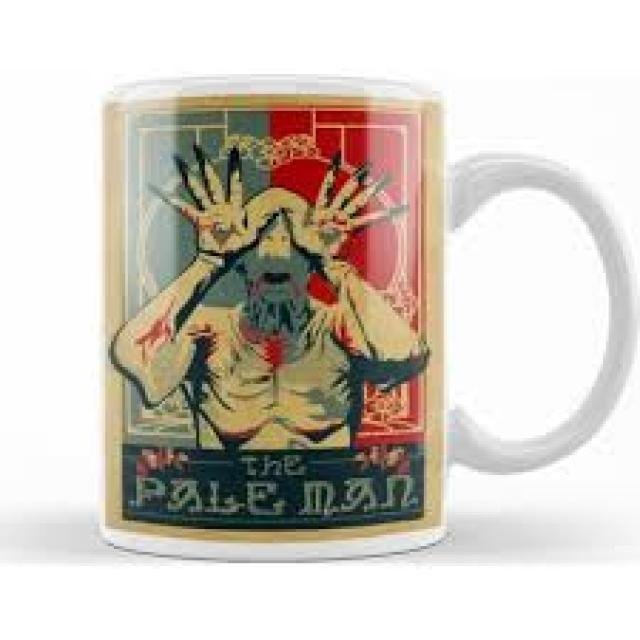taza: (98, 74, 640, 564)
